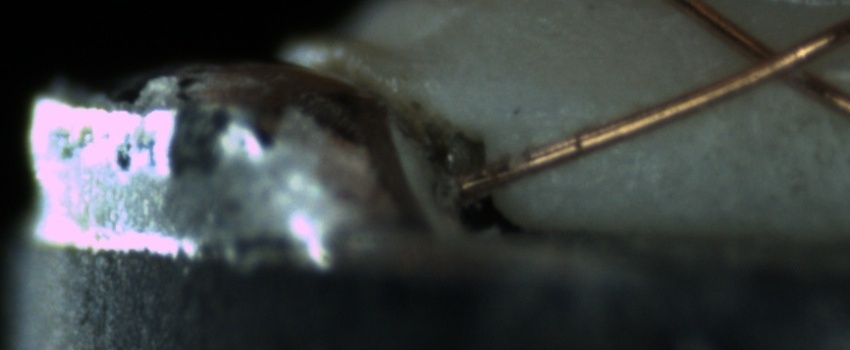CL: (722, 24, 828, 95)
